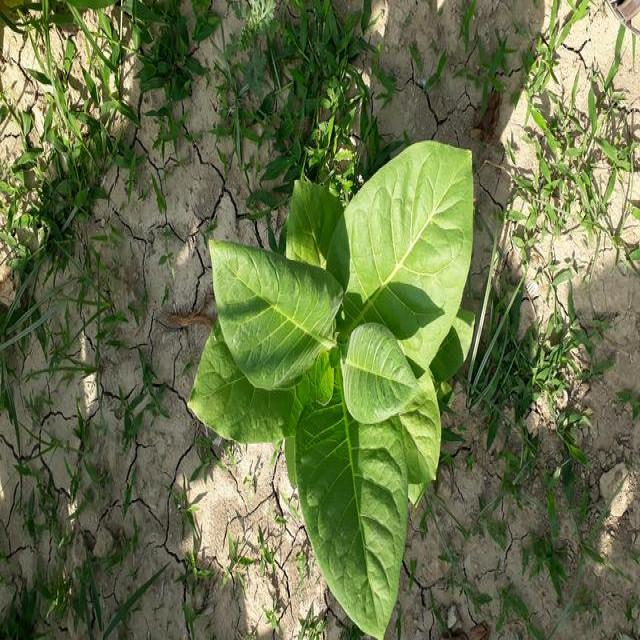crop: (191, 156, 474, 636)
